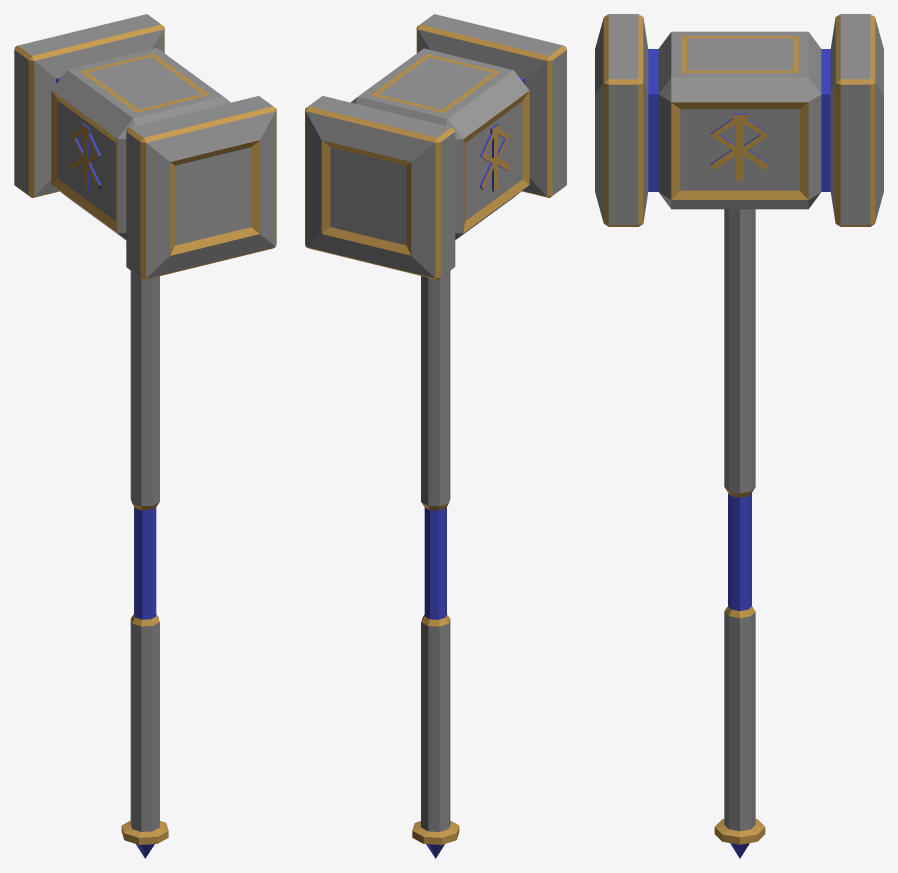
The model's file is DwarfHammerPaladin.obj.
3 views of the same model, side by side, from view 1: azimuth 30°, elevation 25°; view 2: azimuth 150°, elevation 25°; view 3: azimuth 270°, elevation 25° (orthographic). The views are drawn at different scales.
Parts seen in each view (by area): view 1: Cylinder; view 2: Cylinder; view 3: Cylinder.
Boxes of the visible parts, bbox=[...] form: Cylinder: bbox=[14, 14, 276, 858]; Cylinder: bbox=[305, 14, 566, 858]; Cylinder: bbox=[595, 14, 883, 858].
Bounding box in the file's own units: 1.34 × 7.37 × 2.38.
